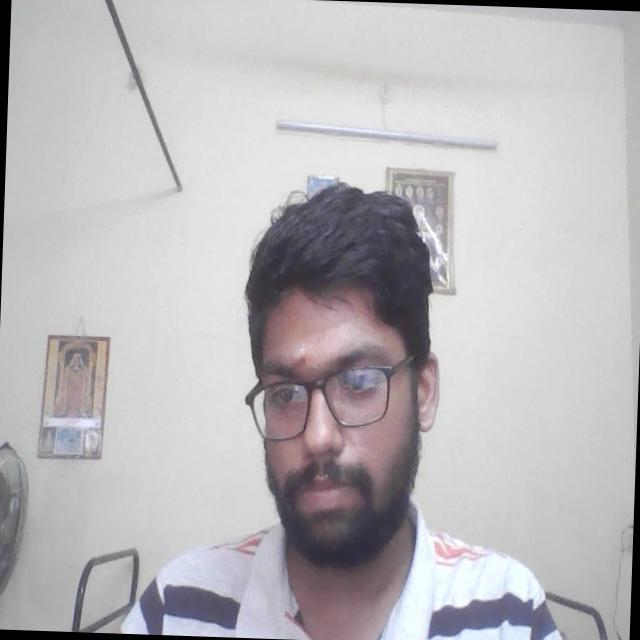Focused: (239, 298, 407, 530)
